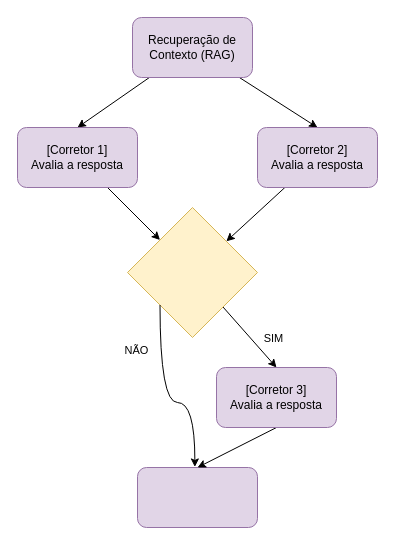
Some shapes in this 395 by 545 pixel diagram are drawn without their labels. The box of each missing label's shape, as (x1, y1, x2, y2) in pixels:
A divergência ultrapassa o limiar?: (126, 206, 258, 338)
Consolida e persistência: (136, 466, 258, 528)
